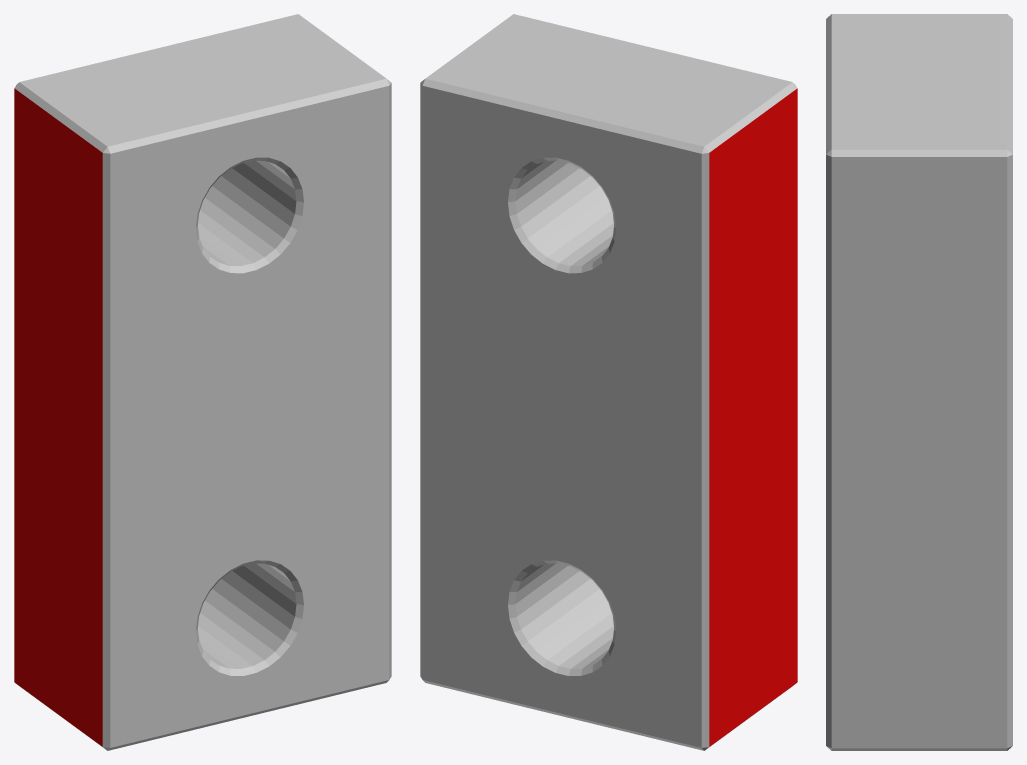
File: 10_stp_3.obj
3 renders of one model, left to right at view 1: azimuth 30°, elevation 25°; view 2: azimuth 150°, elevation 25°; view 3: azimuth 270°, elevation 25°, orthographic.
Parts seen in each view (by area): view 1: Object1; view 2: Object1; view 3: Object1.
Part boxes in pixels (box(x1,y1,x2,y2)): Object1: box(14, 14, 391, 750); Object1: box(420, 14, 797, 750); Object1: box(826, 14, 1012, 750).
Size of the model in its own units: 30 by 60 by 16.9.
